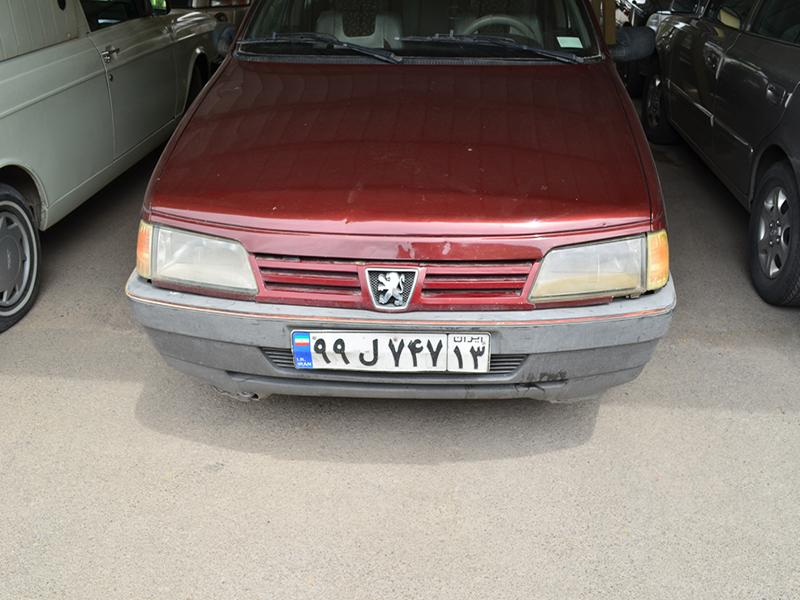Plate: (279, 320, 499, 378)
